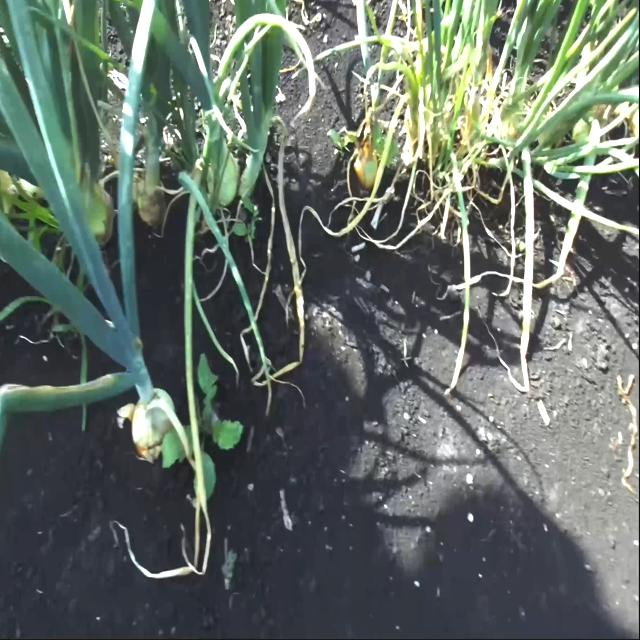onion: (129, 387, 177, 456), (199, 143, 239, 205)
